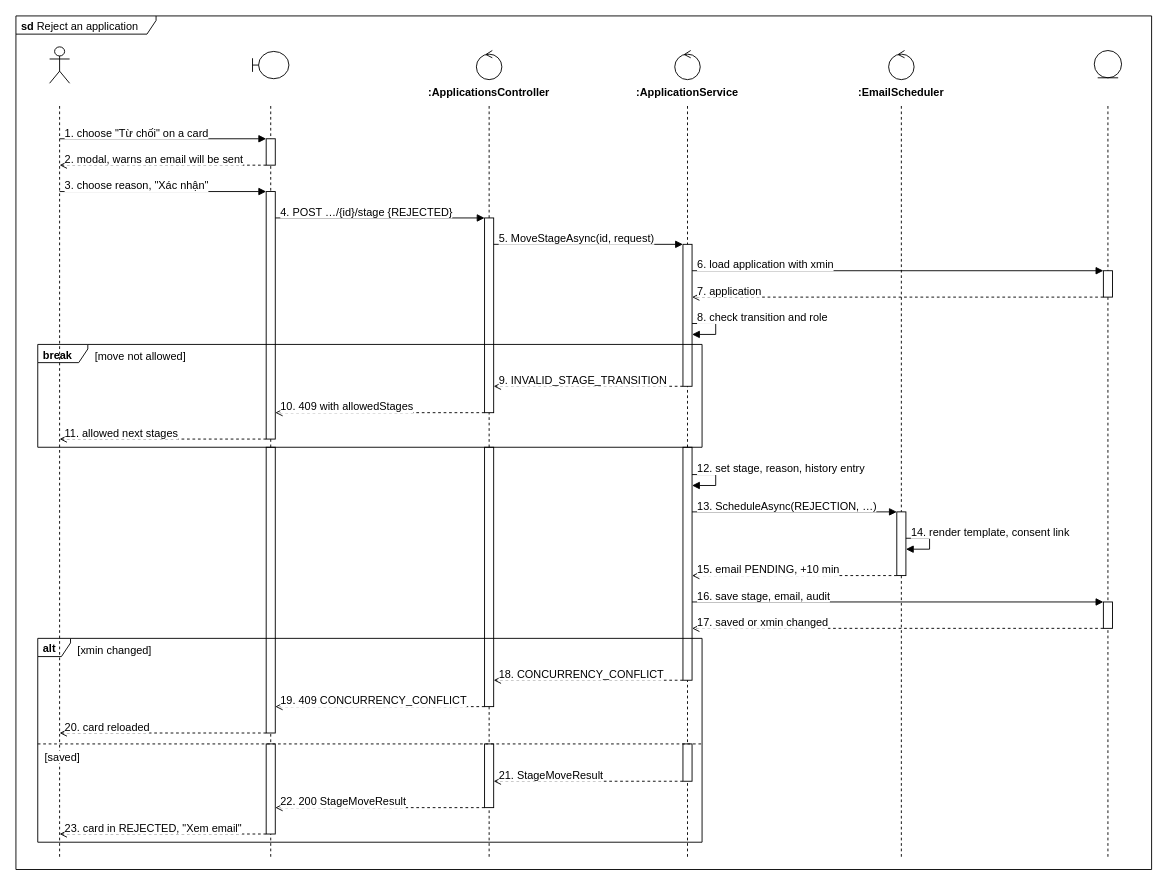
This 1168x885 diagram has some shape labels left out. Each missing label, with the centre of its shape:
":Database" goes at point (1107, 64).
":Pipeline board" goes at point (270, 65).
"Recruiter" goes at point (59, 64).
